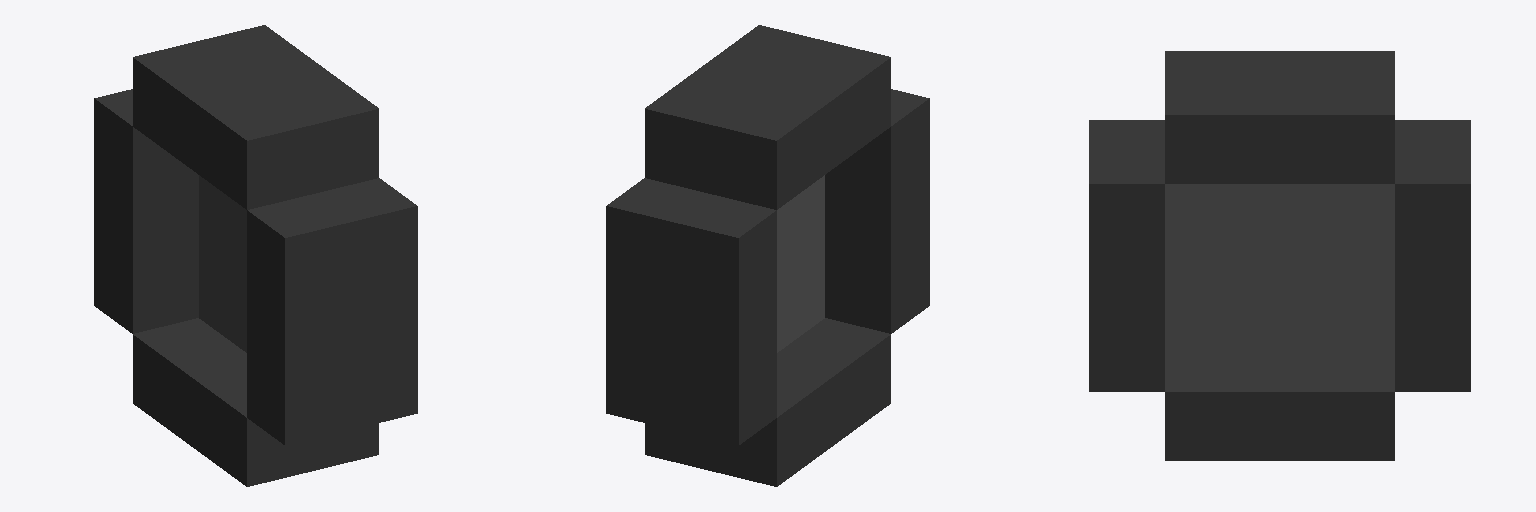
3 renders of one model, left to right at view 1: azimuth 30°, elevation 25°; view 2: azimuth 150°, elevation 25°; view 3: azimuth 270°, elevation 25°, orthographic.
Parts seen in each view (by area): view 1: weel.002; view 2: weel.002; view 3: weel.002.
Part boxes in pixels (bbox=[...]): weel.002: bbox=[94, 25, 417, 486]; weel.002: bbox=[606, 25, 929, 486]; weel.002: bbox=[1089, 51, 1470, 460].
Bounding box in the file's own units: 0.2 × 0.5 × 0.5.
1 materials, 1 textured.